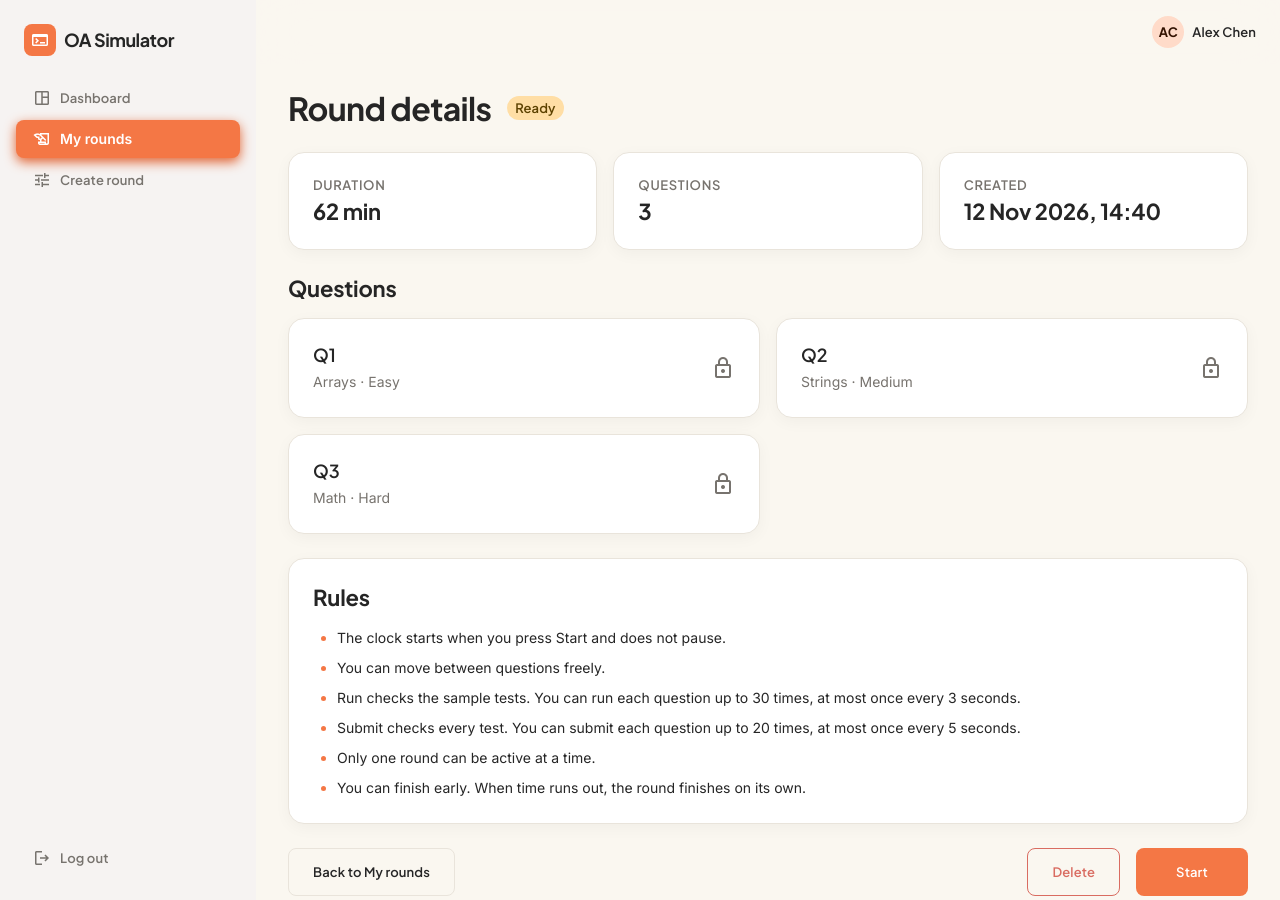
Test: S7 Start › ACTIVE_ROUND_EXISTS (real response) shows the banner with a link to the active round found with E7
Click the button "Start" at (1192, 872), box [1136,848,1248,896]
(page scrolled)
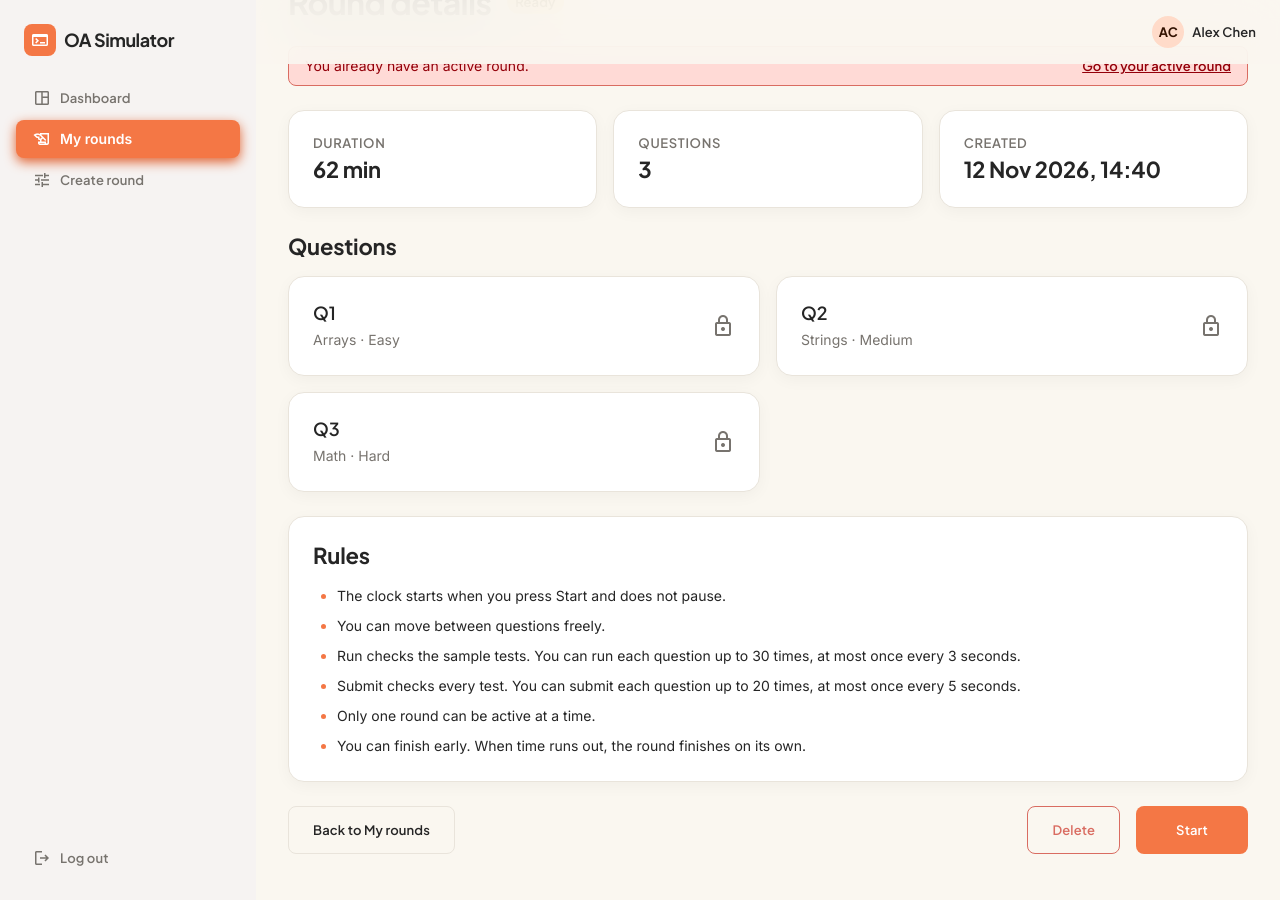
Expected: the button "Start" is enabled, [1136,806,1248,854]
Expected: the message shows "You already have an active round.", [305,57,529,74]
